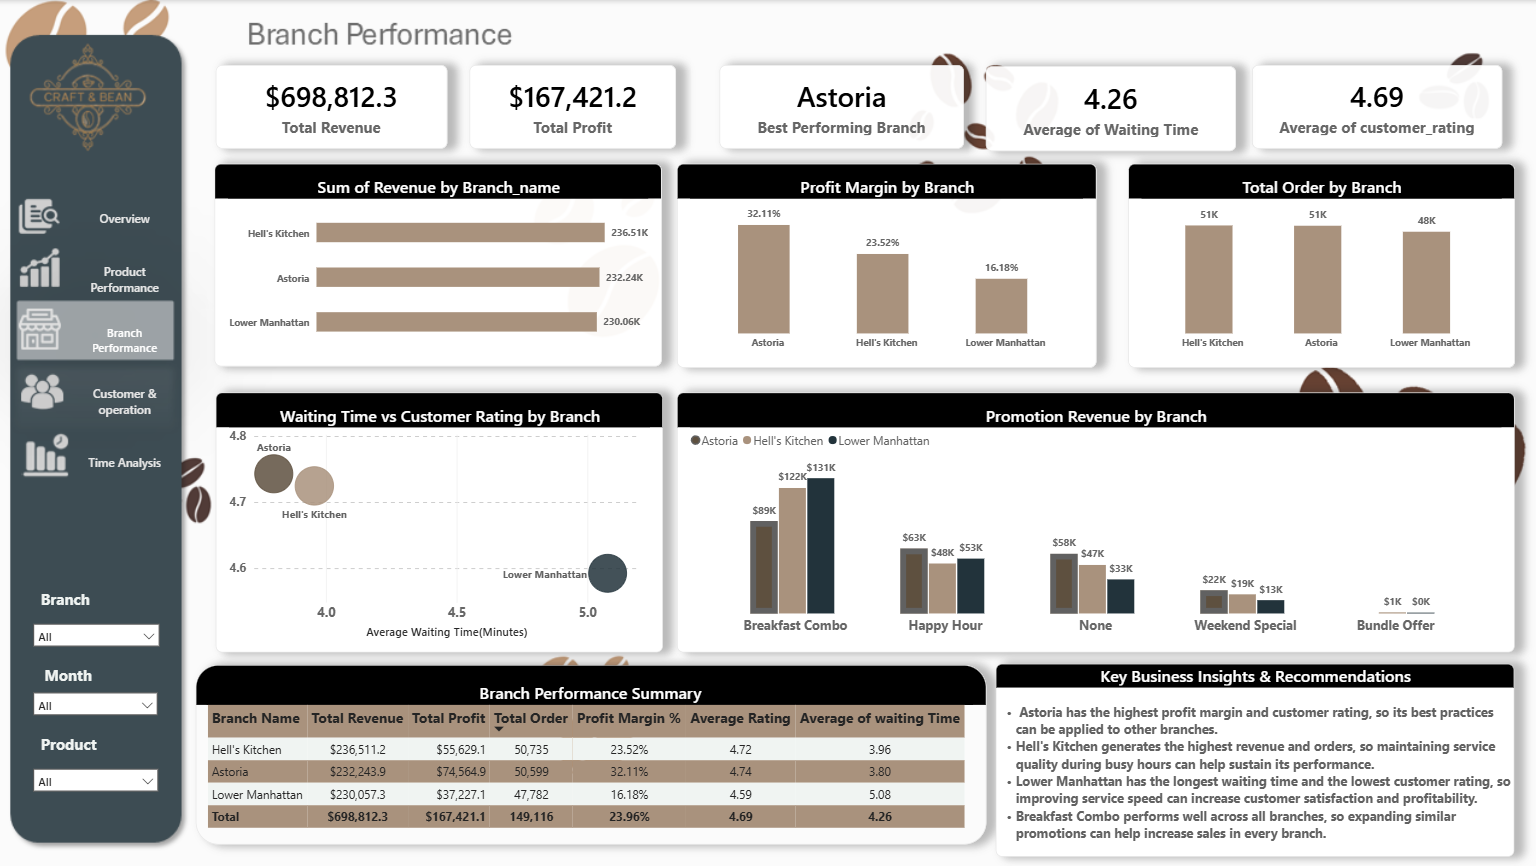

What the dashboard file says about the page in this screenshot:
{"tool":"powerbi","page":{"name":"Branch Performance","canvas":[1920,1080],"ordinal":2},"visuals":[{"type":"textbox","box":[58.4,826.7,69.3,30.3],"z":0},{"type":"slicer","fields":{"Values":["coffee_sales.Month Name"]},"box":[41.1,857,164.5,43.3],"z":1000},{"type":"slicer","fields":{"Values":["coffee_sales.product_detail"]},"box":[40.8,951,165,44.2],"z":2000},{"type":"textbox","box":[54.4,911.9,103.8,27.2],"z":3000},{"type":"slicer","fields":{"Values":["coffee_sales.Branch_name"]},"box":[41.1,770.4,166.6,41.1],"z":4000},{"type":"textbox","box":[54.4,731.6,78.3,39.1],"z":5000},{"type":"pageNavigator","box":[93.6,238.2,131,374.3],"z":6000},{"type":"card","fields":{"Values":["Min(coffee_sales.Branch_name)"]},"box":[898.9,80.9,303.8,104.3],"z":7000},{"type":"card","fields":{"Values":["Measures_Table.Total Profit"]},"box":[587.9,80.9,257.1,104.3],"z":8000},{"type":"card","fields":{"Values":["Measures_Table.Total Revenue"]},"box":[271.5,80.9,287.6,104.3],"z":9000},{"type":"card","fields":{"Values":["Avg(coffee_sales.customer_rating)"]},"box":[1560.4,80.9,311,104.3],"z":10000},{"type":"barChart","fields":{"Category":["coffee_sales.Branch_name"],"Y":["Sum(coffee_sales.Revenue)"]},"box":[270.5,204.2,556.3,251.8],"z":11000},{"type":"clusteredColumnChart","title":"Profit Margin by Branch","fields":{"Category":["coffee_sales.Branch_name"],"Y":["Measures_Table.Profit Margin %"]},"box":[846.2,203.4,521.6,253.2],"z":12000},{"type":"clusteredColumnChart","title":"Total Order by Branch","fields":{"Category":["coffee_sales.Branch_name"],"Y":["Measures_Table.Total Order"]},"box":[1406.7,203.4,480.4,253.2],"z":13000},{"type":"scatterChart","title":"Waiting Time vs Customer Rating by Branch","fields":{"Series":["coffee_sales.Branch_name"],"Size":["Measures_Table.Total Revenue"],"X":["Avg(coffee_sales.waiting_time)"],"Y":["Avg(coffee_sales.customer_rating)"]},"box":[272.2,488.3,556.3,323.3],"z":14000},{"type":"tableEx","title":"Branch Performance Summary ","fields":{"Values":["coffee_sales.Branch_name","Measures_Table.Total Revenue","Measures_Table.Total Profit","Measures_Table.Total Order","Measures_Table.Profit Margin %","Avg(coffee_sales.customer_rating)","Avg(coffee_sales.waiting_time)"]},"box":[246.7,826.8,983.4,222.9],"z":15000},{"type":"clusteredColumnChart","title":"Promotion Revenue by Branch","fields":{"Category":["coffee_sales.promotion_type"],"Series":["coffee_sales.Branch_name"],"Y":["Measures_Table.Total Revenue"]},"box":[845.6,488.3,1041.2,323.3],"z":16000},{"type":"textbox","title":"Key Business Insights & Recommendations","box":[1242,825.1,644.8,239.9],"z":17000},{"type":"card","fields":{"Values":["Avg(coffee_sales.waiting_time)"]},"box":[1230.1,81.7,311.3,105.5],"z":18000}]}

Visuals, with their boxes on the page's 1920x1080 design canvas (x1, y1, x2, y2). These are canvas units, not pixel positions in the 1536x866 screenshot, which may show the page scaled, cropped or inside an application window:
textbox: bbox(58, 827, 128, 857)
slicer - coffee_sales.Month Name: bbox(41, 857, 206, 900)
slicer - coffee_sales.product_detail: bbox(41, 951, 206, 995)
textbox: bbox(54, 912, 158, 939)
slicer - coffee_sales.Branch_name: bbox(41, 770, 208, 812)
textbox: bbox(54, 732, 133, 771)
pageNavigator: bbox(94, 238, 225, 612)
card - Min(coffee_sales.Branch_name): bbox(899, 81, 1203, 185)
card - Measures_Table.Total Profit: bbox(588, 81, 845, 185)
card - Measures_Table.Total Revenue: bbox(272, 81, 559, 185)
card - Avg(coffee_sales.customer_rating): bbox(1560, 81, 1871, 185)
barChart - coffee_sales.Branch_name x Sum(coffee_sales.Revenue): bbox(270, 204, 827, 456)
"Profit Margin by Branch" clusteredColumnChart: bbox(846, 203, 1368, 457)
"Total Order by Branch" clusteredColumnChart: bbox(1407, 203, 1887, 457)
"Waiting Time vs Customer Rating by Branch" scatterChart: bbox(272, 488, 828, 812)
"Branch Performance Summary " tableEx: bbox(247, 827, 1230, 1050)
"Promotion Revenue by Branch" clusteredColumnChart: bbox(846, 488, 1887, 812)
"Key Business Insights & Recommendations" textbox: bbox(1242, 825, 1887, 1065)
card - Avg(coffee_sales.waiting_time): bbox(1230, 82, 1541, 187)
